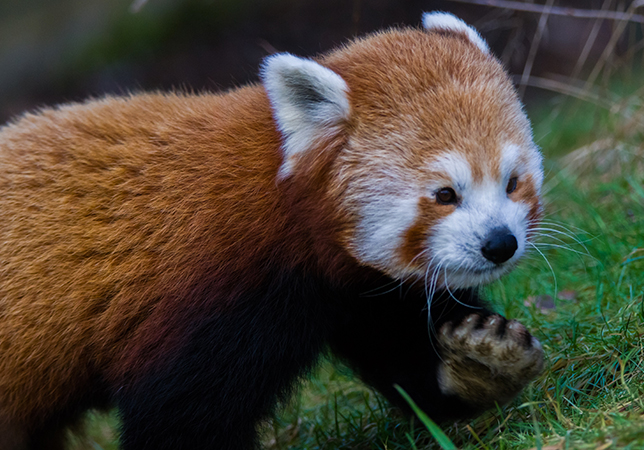red_panda: (1, 26, 559, 450)
